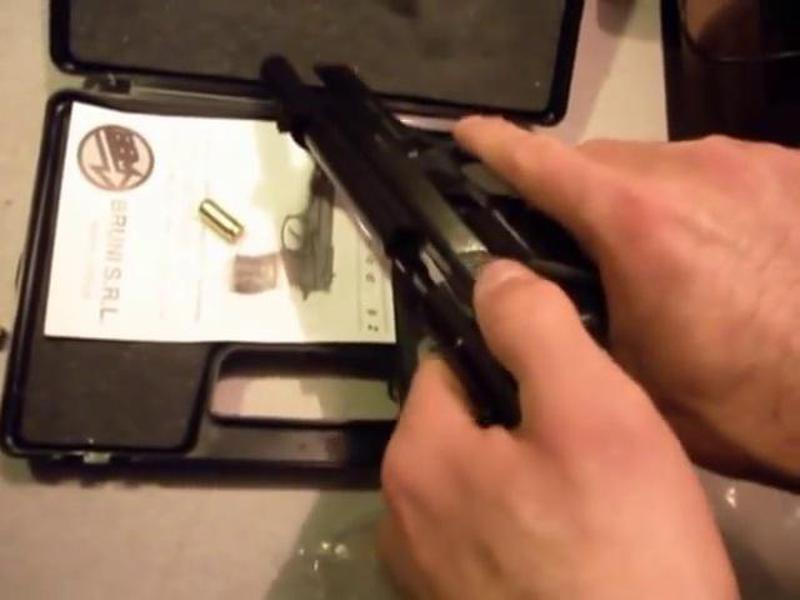Pistola: (250, 29, 620, 460)
